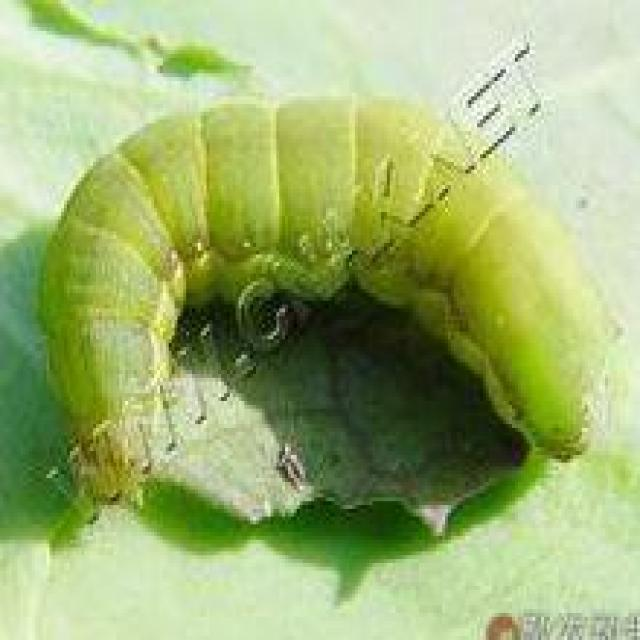BeetArmyWorm-Larva-: (15, 74, 615, 507)
